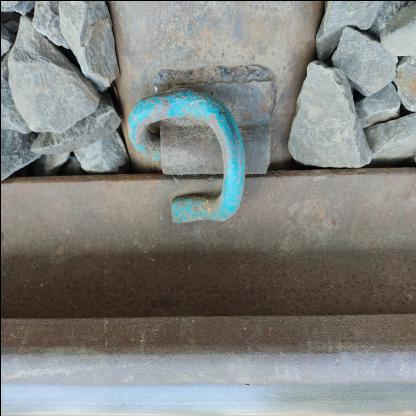Non Defective 1: (118, 58, 277, 240)
